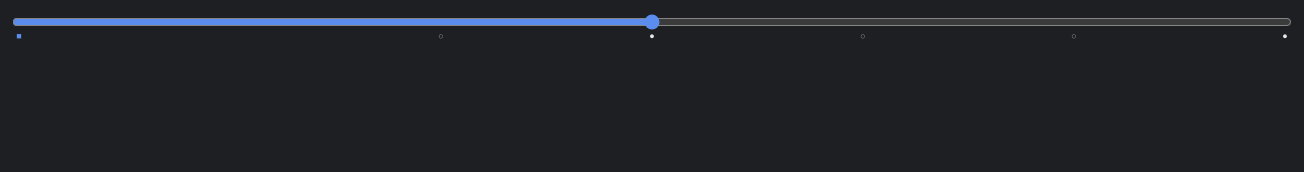
KeySlider の範囲の選択 › 編集をやめると選択も消える
This screenshot has width=1304, height=172.
Press the mouse on the element with class "key-slider-track" at (652, 27), box [12,12,1292,42]
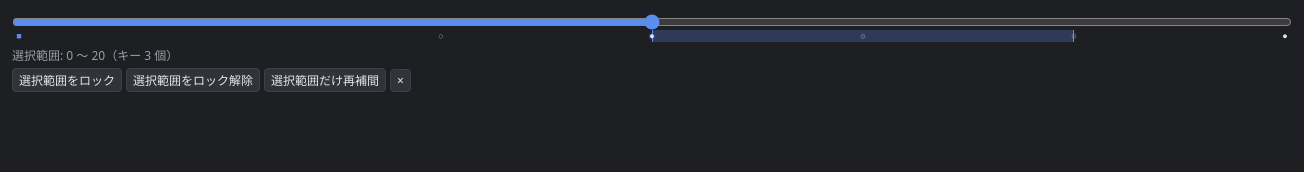
Check: the element with test id "key-selection" is shown, box [652,30,1074,42]
